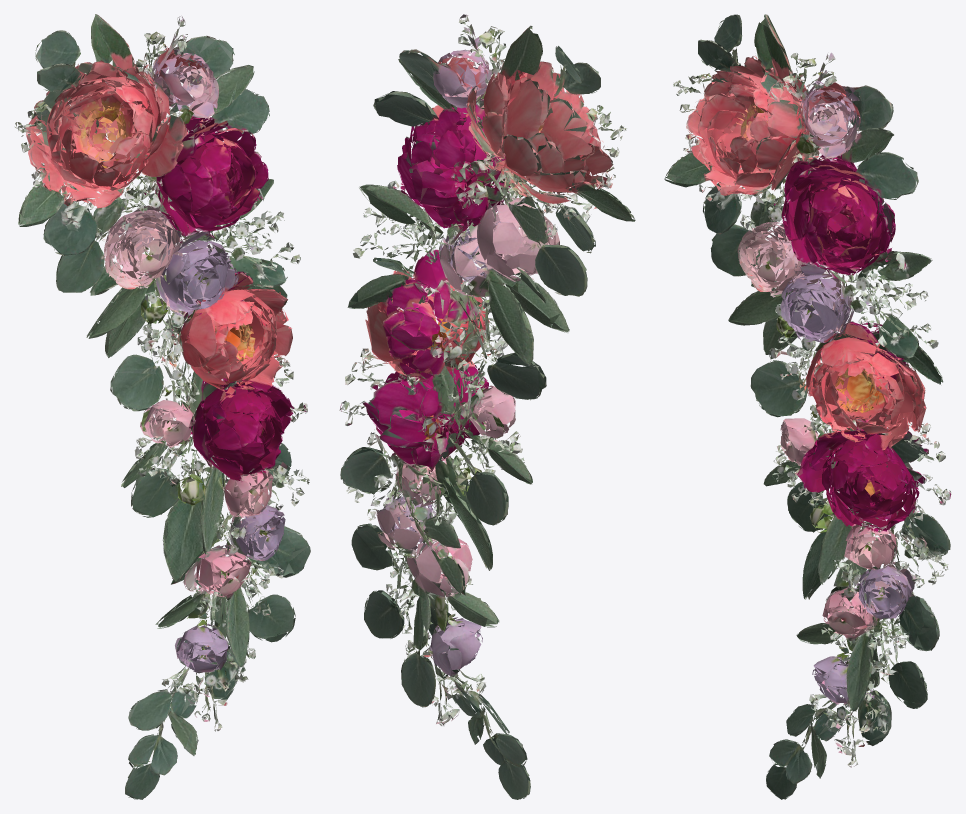
Rendered from cascade_rose.glb.
3 renders of one model, left to right at view 1: azimuth 30°, elevation 25°; view 2: azimuth 150°, elevation 25°; view 3: azimuth 330°, elevation 25°, orthographic. The views are drawn at different scales.
Parts seen in each view (by area): view 1: cascade_rose; view 2: cascade_rose; view 3: cascade_rose.
Boxes of the visible parts, bbox=[...] form: cascade_rose: bbox=[14, 14, 310, 799]; cascade_rose: bbox=[339, 14, 635, 799]; cascade_rose: bbox=[664, 14, 951, 799].
Bounding box in the file's own units: 0.3879 × 1 × 0.129.
1 material, 1 textured.
